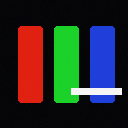3 line_h: (71, 88, 121, 94)
